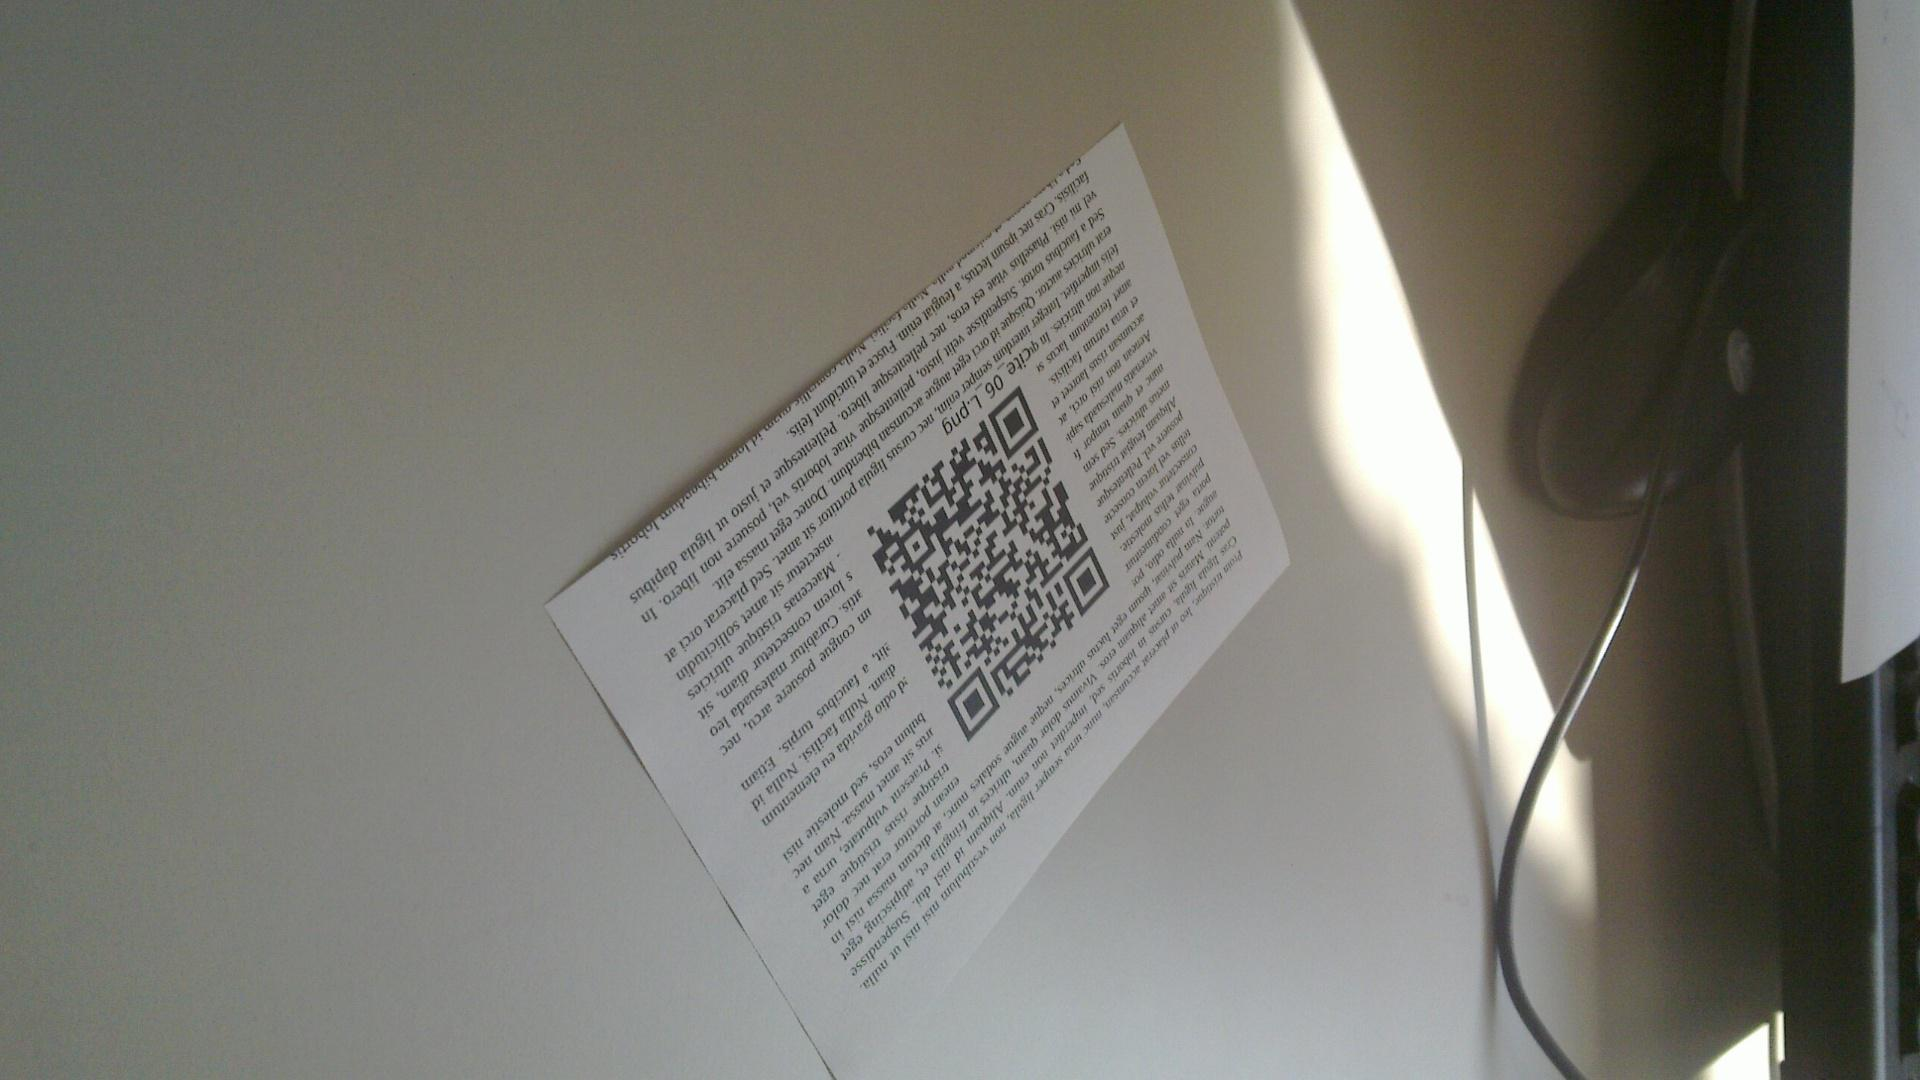Finder pattern: (945, 667, 1001, 745), (1062, 543, 1110, 615), (982, 390, 1038, 452)
